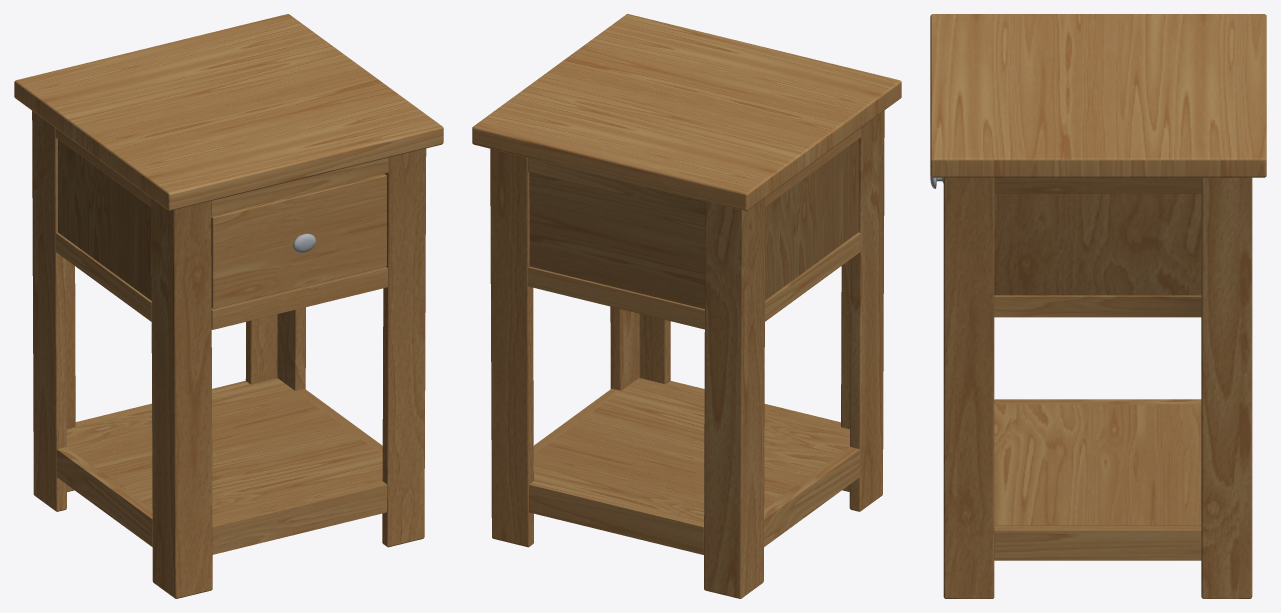
3 views of the same model, side by side, from view 1: azimuth 30°, elevation 25°; view 2: azimuth 150°, elevation 25°; view 3: azimuth 270°, elevation 25° (orthographic). The views are drawn at different scales.
Visible parts, largest first — view 1: RootNode; view 2: RootNode; view 3: RootNode.
Part boxes in pixels (x1=…): RootNode: x1=14, y1=14, x2=443, y2=598; RootNode: x1=472, y1=14, x2=901, y2=598; RootNode: x1=930, y1=14, x2=1266, y2=598.
Bounding box in the file's own units: 0.4277 × 0.6138 × 0.4181.
Materials: 1 (1 with a texture image).
